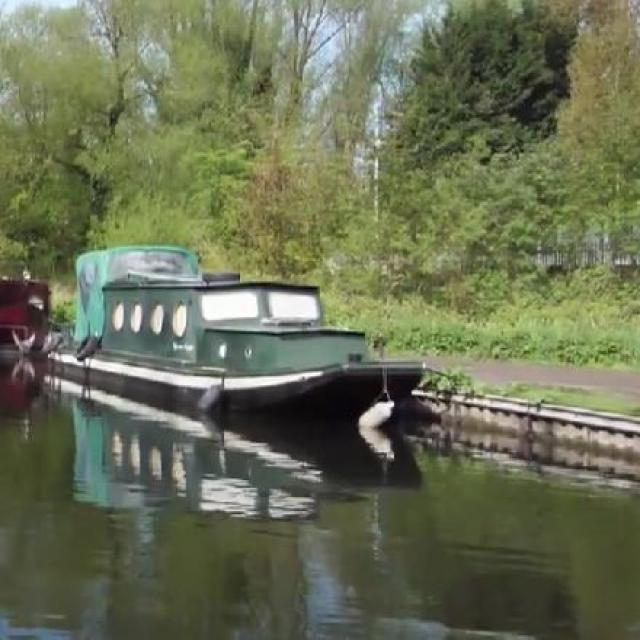boat: (52, 252, 441, 458)
